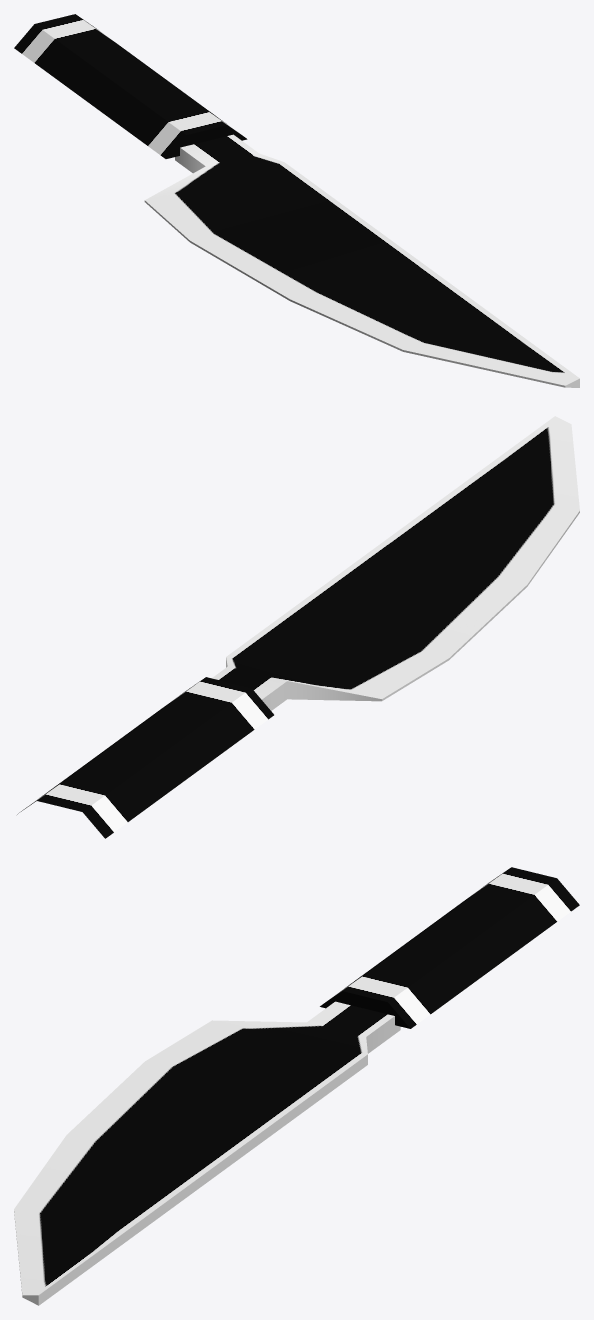
Rendered from ammoKnife_mesh.fbx.
The picture shows the model from 3 angles, top to bottom: view 1: azimuth 30°, elevation 25°; view 2: azimuth 150°, elevation 25°; view 3: azimuth 330°, elevation 25°; orthographic projection. The views are drawn at different scales.
Visible parts, largest first — view 1: ammoKnife_mesh01; view 2: ammoKnife_mesh01; view 3: ammoKnife_mesh01.
Boxes of the visible parts, x1,y1,x2,y2 form: ammoKnife_mesh01: (14, 14, 579, 387); ammoKnife_mesh01: (17, 416, 579, 838); ammoKnife_mesh01: (14, 867, 579, 1305).
Size of the model in its own units: 52.78 by 9.31 by 299.
